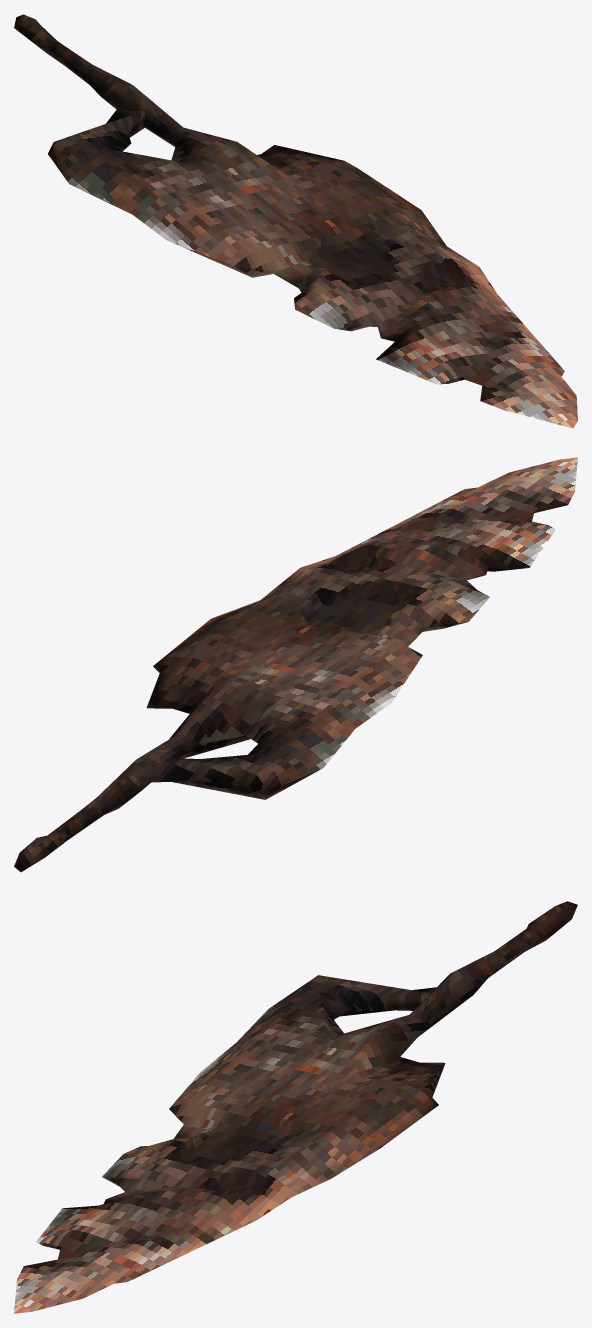
The picture shows the model from 3 angles, top to bottom: view 1: azimuth 30°, elevation 25°; view 2: azimuth 150°, elevation 25°; view 3: azimuth 330°, elevation 25°; orthographic projection.
Visible parts, largest first — view 1: weapon/we025.pac; view 2: weapon/we025.pac; view 3: weapon/we025.pac.
Part boxes in pixels (bbox=[...]): weapon/we025.pac: bbox=[14, 14, 577, 428]; weapon/we025.pac: bbox=[14, 457, 577, 872]; weapon/we025.pac: bbox=[14, 901, 577, 1313].
Bounding box in the file's own units: 75.08 × 14.87 × 314.
Materials: 1 (1 with a texture image).
